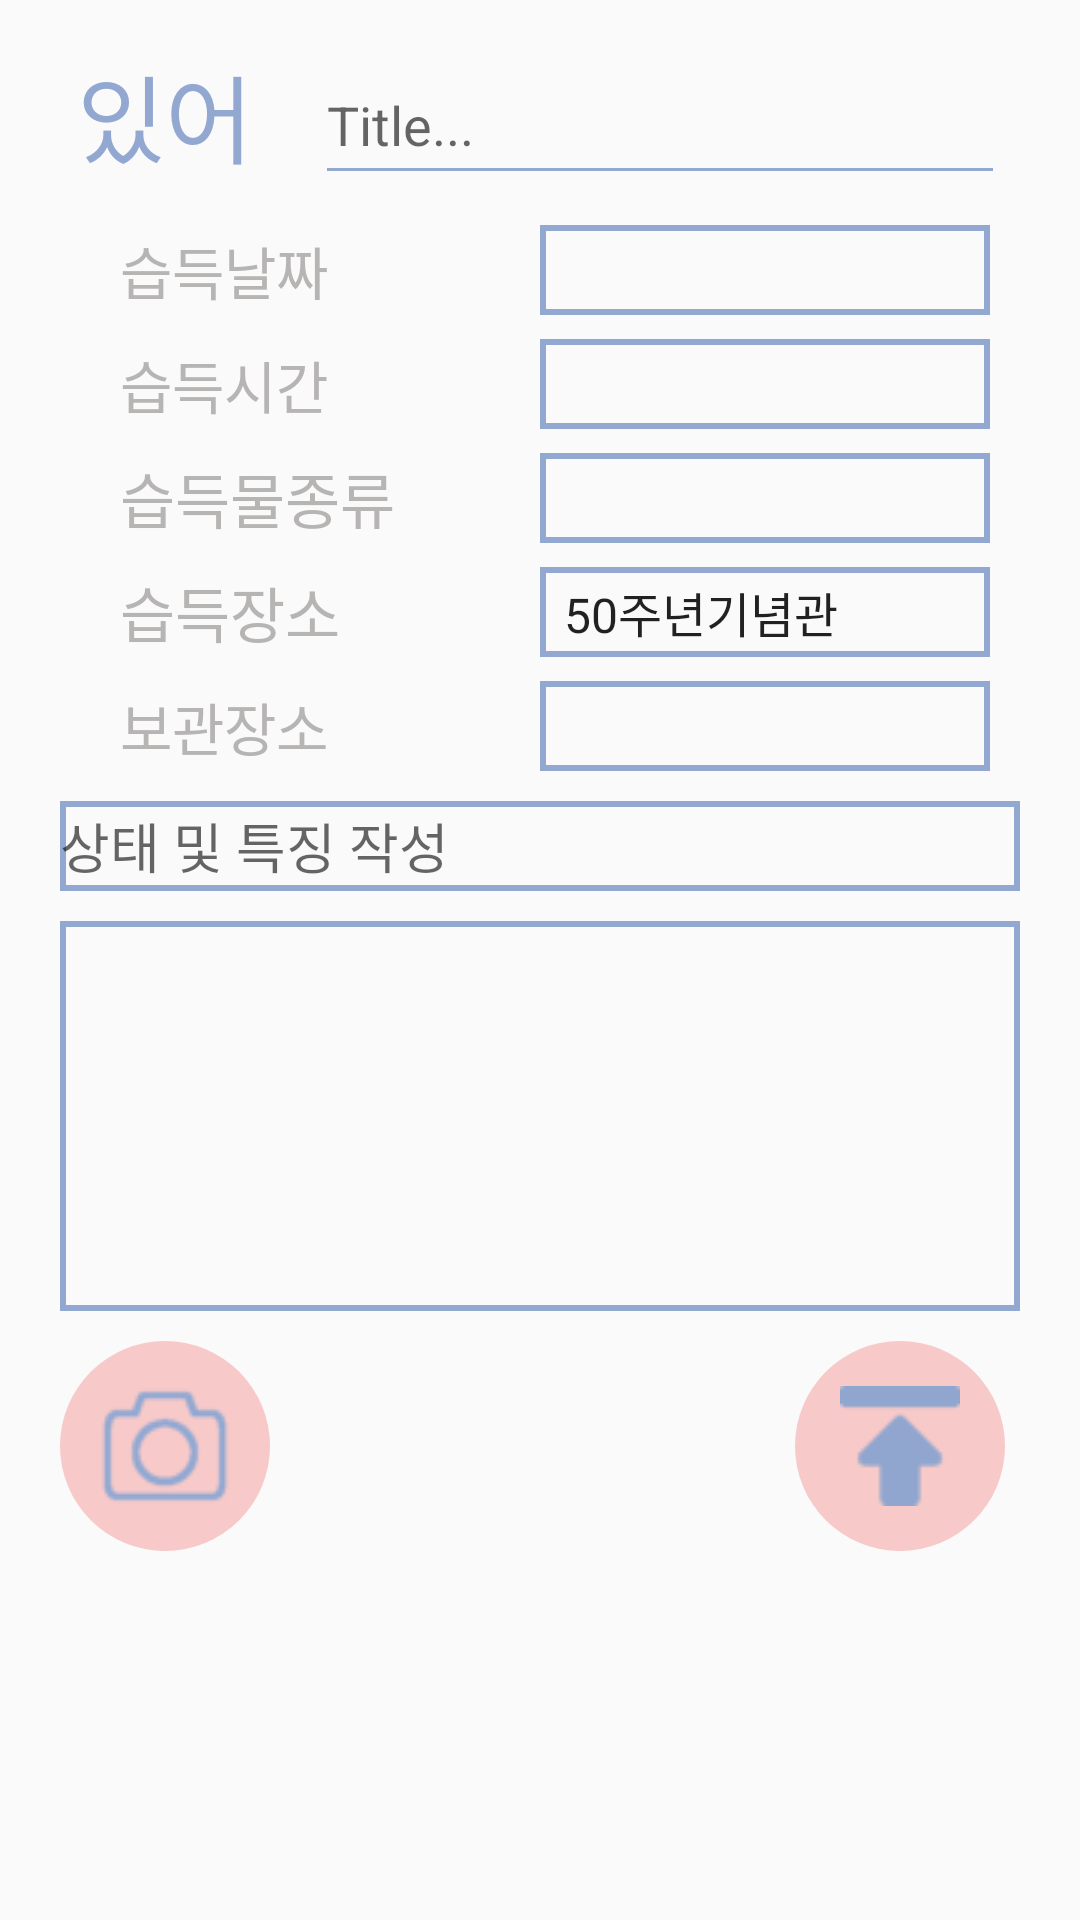

Where icons sit on this 1080×1920 app screen, as Rect(x1, y1, x2, y2):
camera: Rect(60, 1341, 270, 1551)
